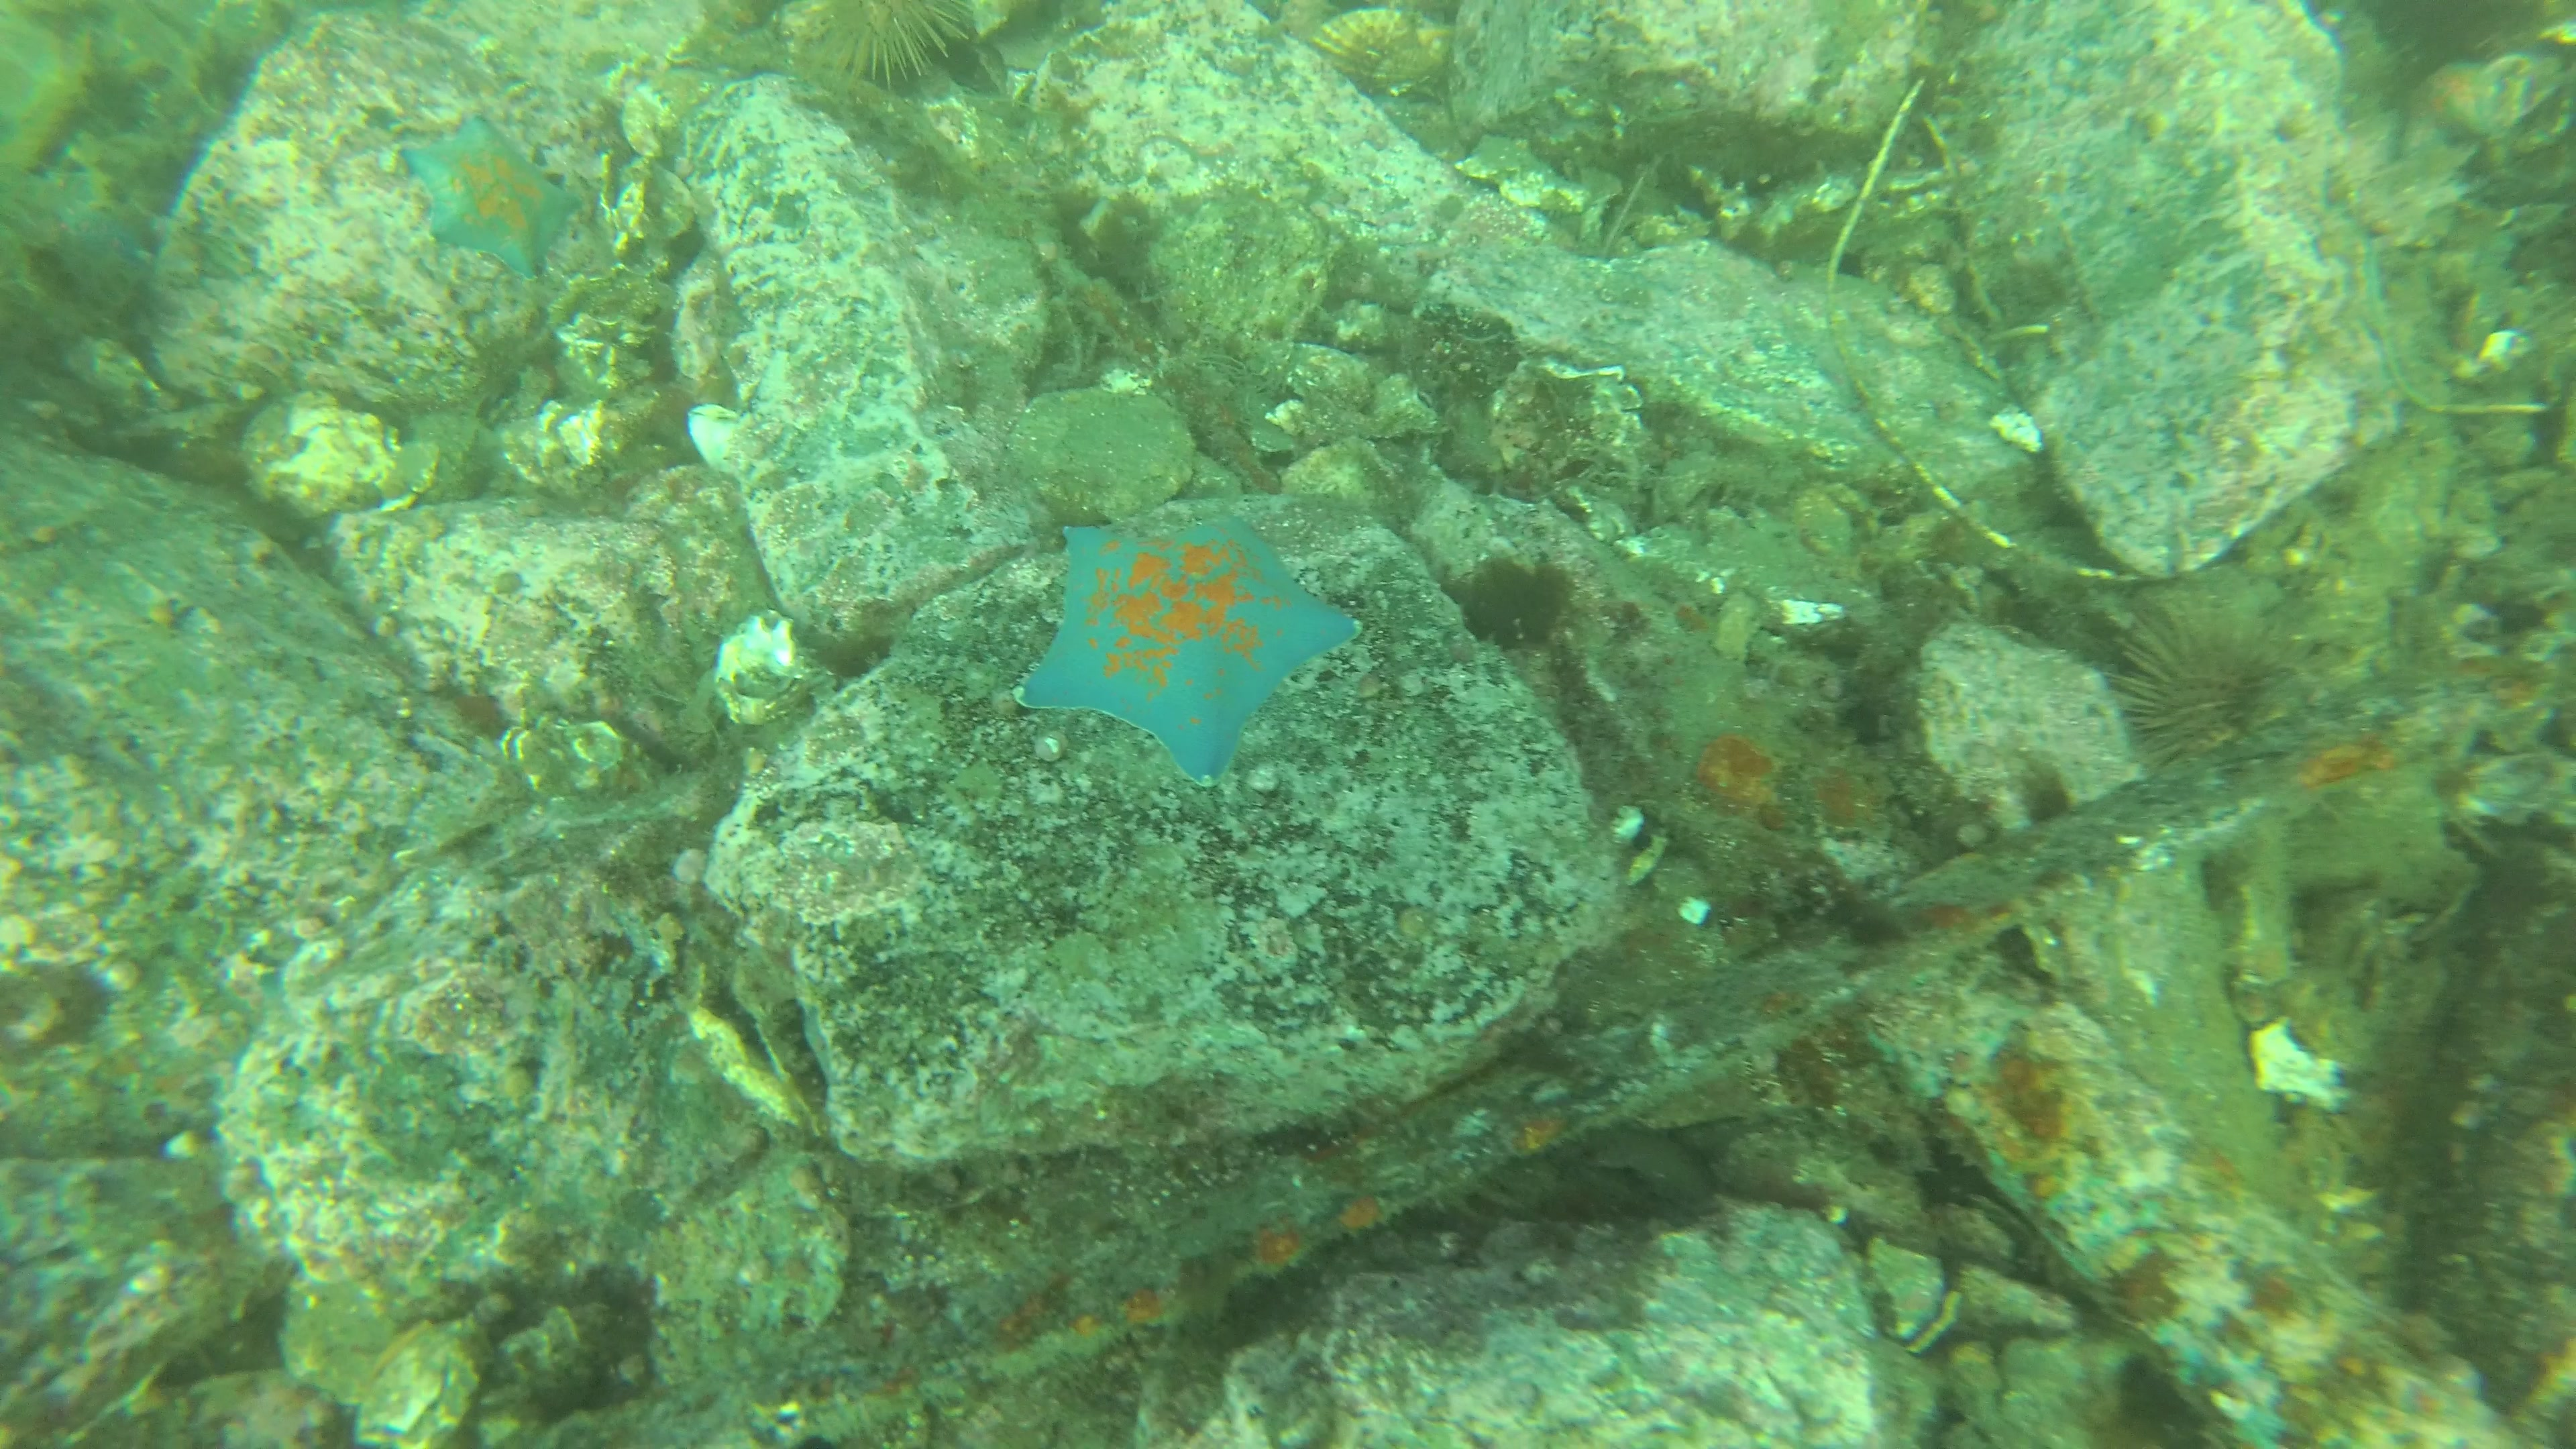echinus: (2112, 619, 2288, 777), (803, 0, 968, 74)
starfish: (1024, 513, 1357, 782), (396, 119, 573, 287)
